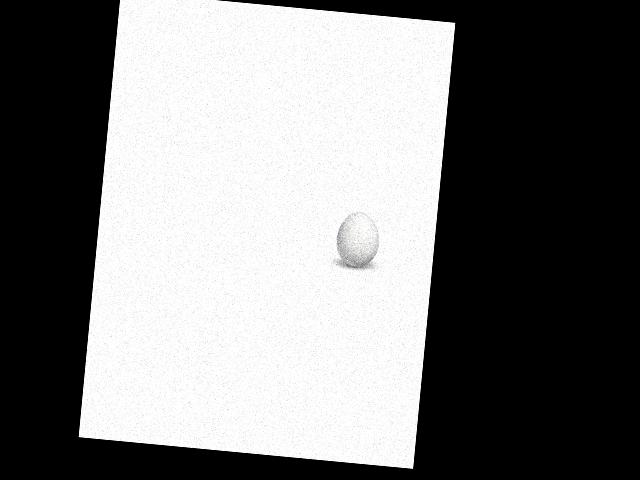egg: (335, 209, 381, 268)
